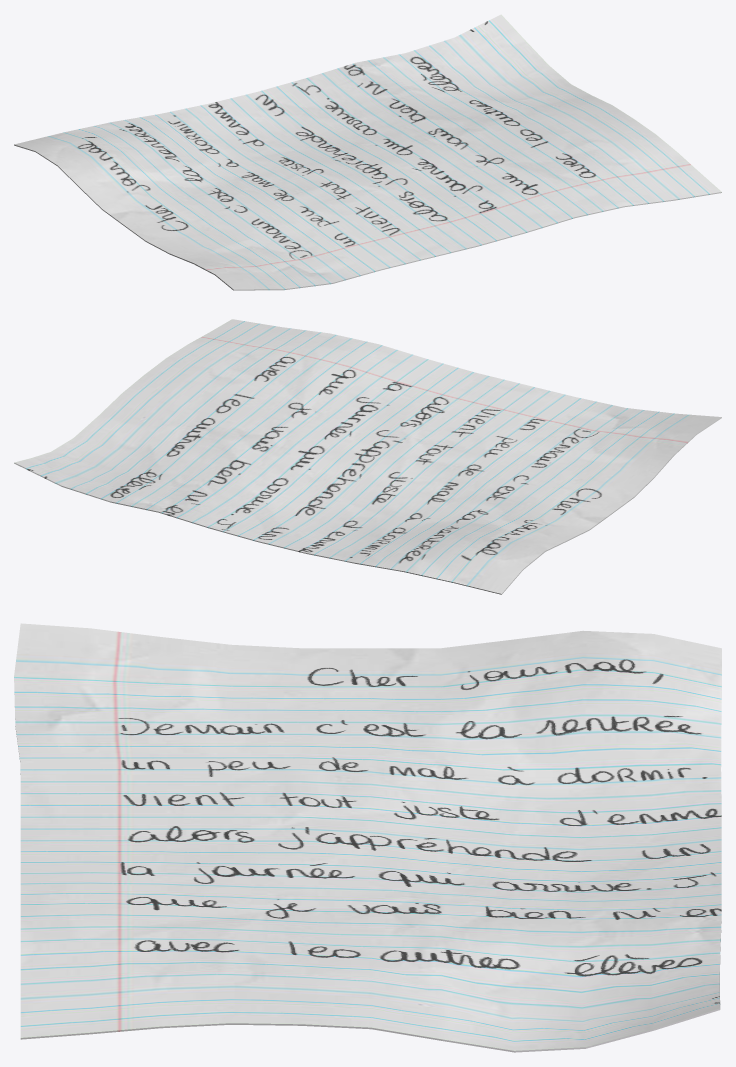
File: Day_1.fbx
The picture shows the model from 3 angles, top to bottom: view 1: azimuth 30°, elevation 25°; view 2: azimuth 150°, elevation 25°; view 3: azimuth 270°, elevation 25°; orthographic projection. The views are drawn at different scales.
Parts seen in each view (by area): view 1: Paper_00; view 2: Paper_00; view 3: Paper_00.
Boxes of the visible parts, x1,y1,x2,y2 form: Paper_00: [14, 14, 721, 290]; Paper_00: [14, 319, 721, 594]; Paper_00: [14, 623, 721, 1052].
Bounding box in the file's own units: 5.23 × 0.3245 × 4.08.
